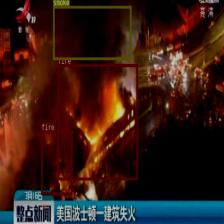fire: (58, 64, 138, 180), (41, 130, 72, 194)
smoke: (53, 6, 131, 60)
